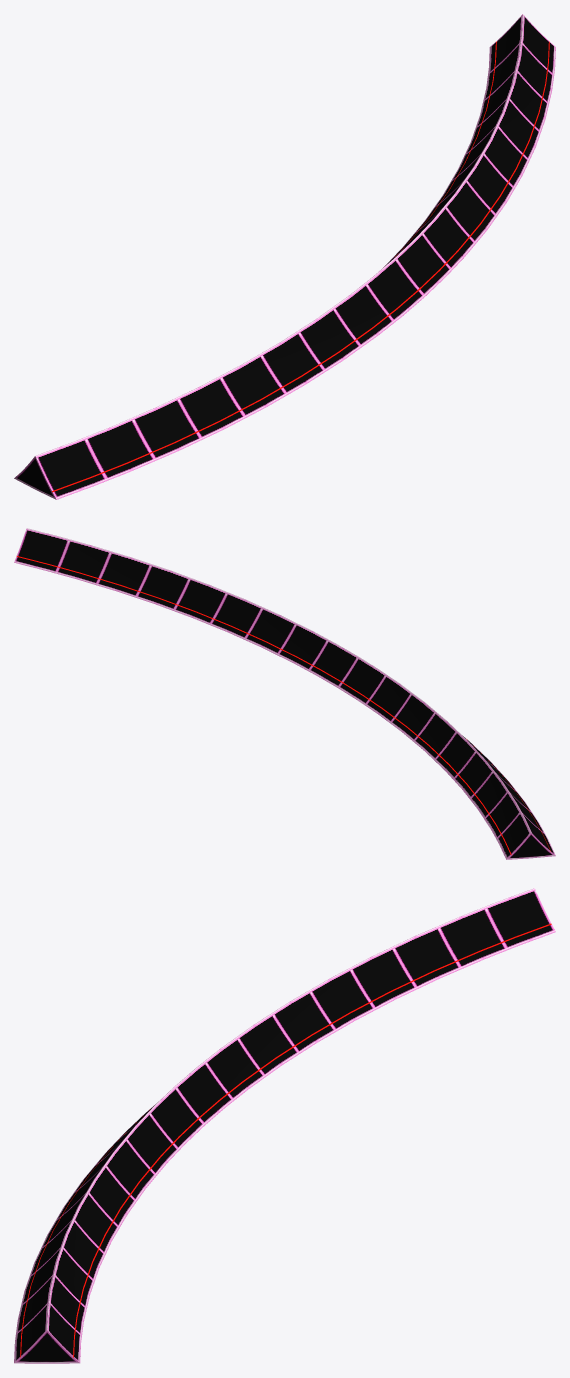
Rendered from Platform-5-new.fbx.
3 renders of one model, top to bottom at view 1: azimuth 90°, elevation 25°; view 2: azimuth 150°, elevation 25°; view 3: azimuth 270°, elevation 25°, orthographic. The views are drawn at different scales.
Visible parts, largest first — view 1: ramp.009; view 2: ramp.009; view 3: ramp.009.
Part boxes in pixels (<box>): ramp.009: <box>14,14,555,499</box>; ramp.009: <box>14,528,555,859</box>; ramp.009: <box>14,888,555,1363</box>.
Bounding box in the file's own units: 5922 × 206 × 2997.
